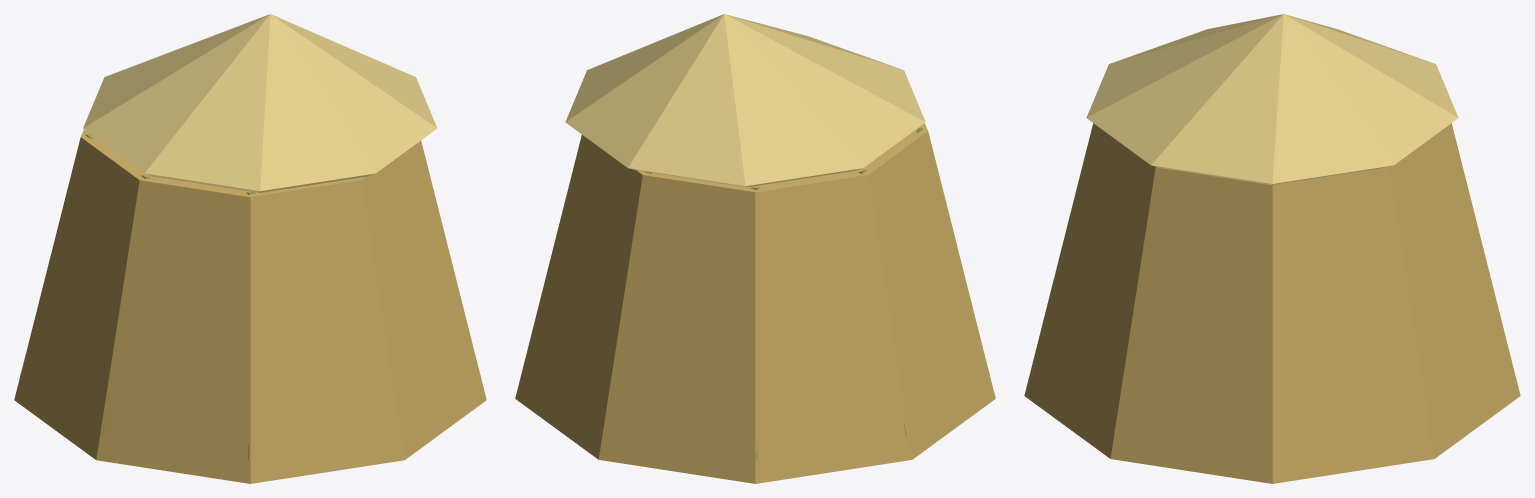
File: qc_haystack.obj
3 views of the same model, side by side, from view 1: azimuth 30°, elevation 25°; view 2: azimuth 150°, elevation 25°; view 3: azimuth 270°, elevation 25° (orthographic). The views are drawn at different scales.
Parts seen in each view (by area): view 1: qc_haystack; view 2: qc_haystack; view 3: qc_haystack.
Part boxes in pixels (x1=…): qc_haystack: x1=14, y1=14, x2=486, y2=483; qc_haystack: x1=515, y1=14, x2=995, y2=483; qc_haystack: x1=1024, y1=14, x2=1520, y2=483.
Bounding box in the file's own units: 1.24 × 1.05 × 1.26.
